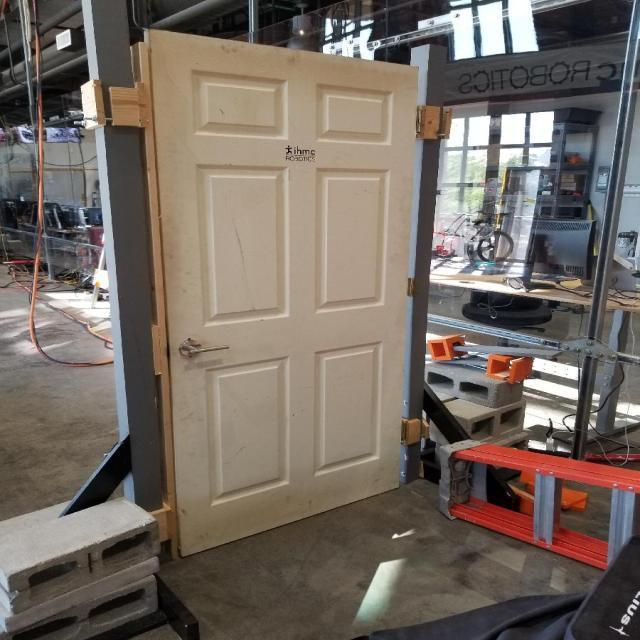door: (136, 26, 424, 569), (175, 330, 234, 360)
